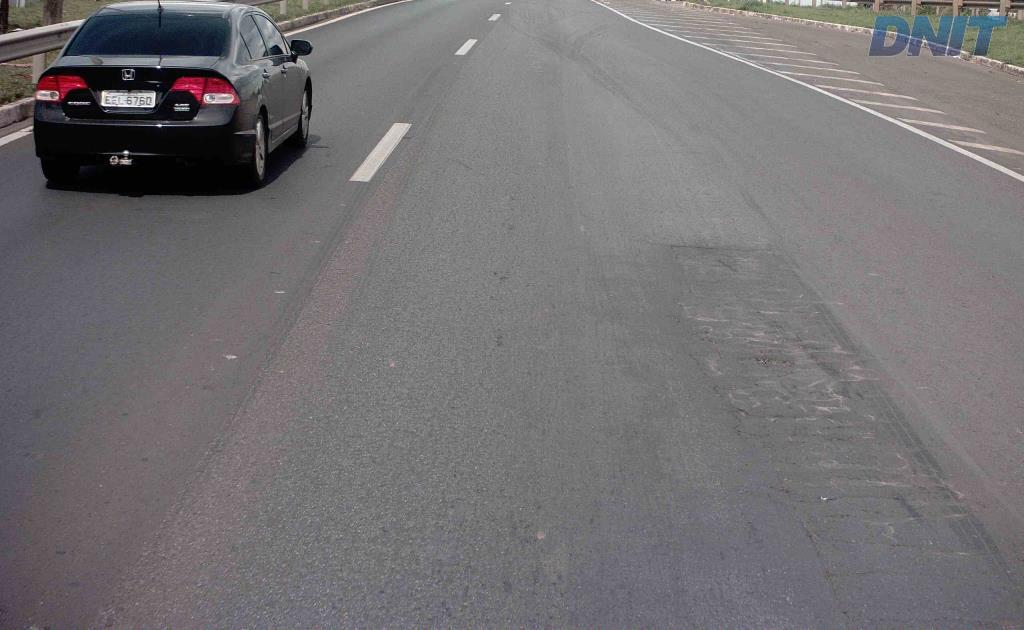crack: (736, 354, 794, 371)
